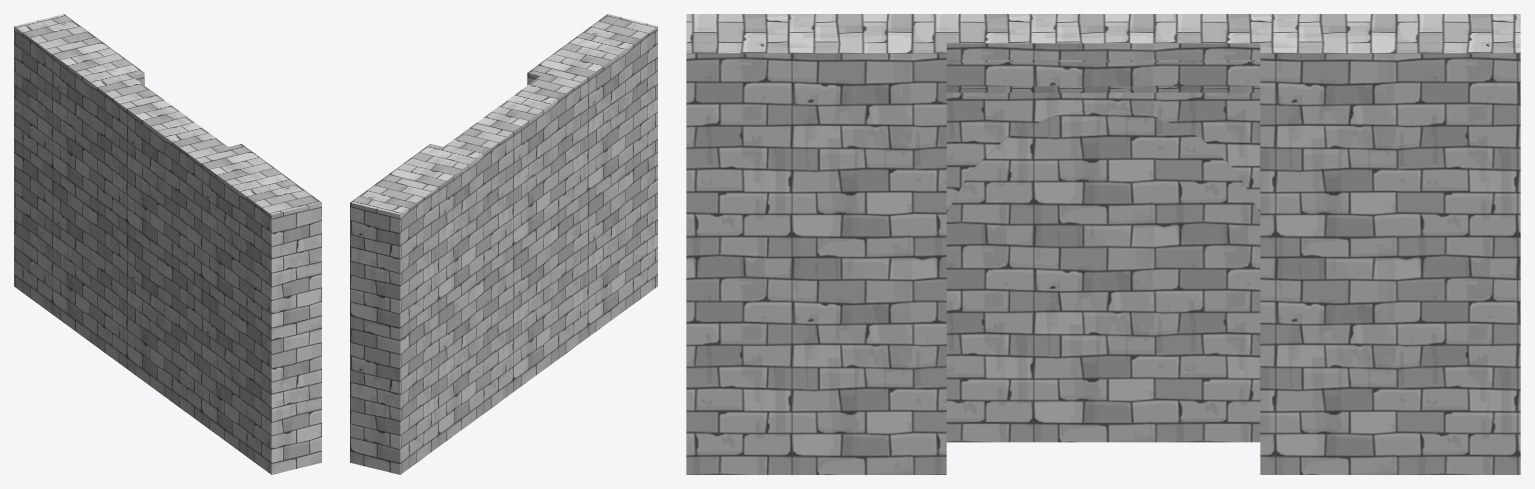
Rendered from StationWall_D_001.fbx.
The picture shows the model from 3 angles, left to right: view 1: azimuth 30°, elevation 25°; view 2: azimuth 150°, elevation 25°; view 3: azimuth 270°, elevation 25°; orthographic projection. The views are drawn at different scales.
Visible parts, largest first — view 1: StationWall_D_001; view 2: StationWall_D_001; view 3: StationWall_D_001.
Part boxes in pixels (left/top/right/bottom): StationWall_D_001: left=14, top=14, right=321, bottom=474; StationWall_D_001: left=350, top=14, right=657, bottom=474; StationWall_D_001: left=686, top=14, right=1520, bottom=474.
Size of the model in its own units: 77.76 by 384 by 690.
1 material, 1 textured.
